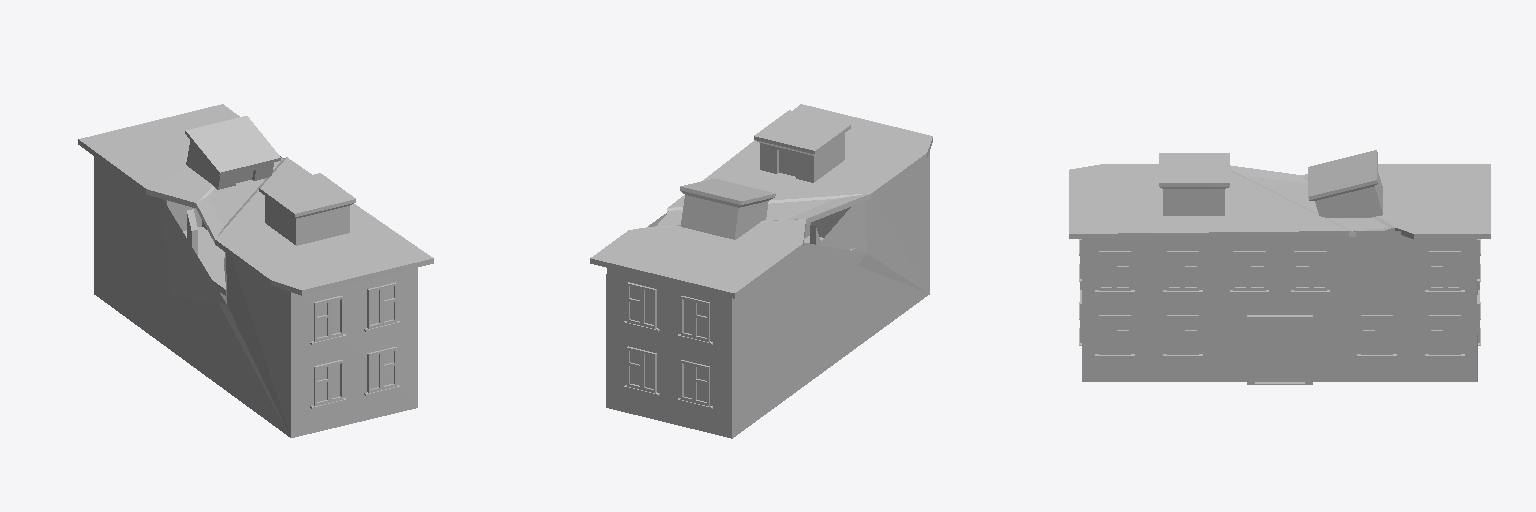
Rendered from build3.obj.
3 views of the same model, side by side, from view 1: azimuth 30°, elevation 25°; view 2: azimuth 150°, elevation 25°; view 3: azimuth 270°, elevation 25° (orthographic).
Visible parts, largest first — view 1: Cube.004, Cube.005_Cube.006, Cube.002, Cube.001_Cube.018, Cube.011_Cube.007, Cube.003_Cube.014, Cube.013_Cube.017; view 2: Cube.004, Cube.005_Cube.006, Cube.002, Cube.001_Cube.018, Cube.003_Cube.014, Cube.013_Cube.017, Cube.011_Cube.007; view 3: Cube.004, Cube.005_Cube.006, Cube.002, Cube.001_Cube.018, Cube.010_Cube.016, Cube.008_Cube.009, Cube.007_Cube.001, Cube.009_Cube.011, Cube.012_Cube.013, Cube.006_Cube.003.
Part boxes in pixels (x1,y1,x2,y2): Cube.004: (94,156,417,437); Cube.005_Cube.006: (78,104,433,295); Cube.002: (259,173,355,245); Cube.001_Cube.018: (185,116,280,189); Cube.011_Cube.007: (167,200,225,295); Cube.003_Cube.014: (310,282,400,344); Cube.013_Cube.017: (310,347,400,408); Cube.004: (606,152,929,438); Cube.005_Cube.006: (590,104,932,298); Cube.002: (754,110,850,182); Cube.001_Cube.018: (680,179,775,239); Cube.003_Cube.014: (623,282,712,344); Cube.013_Cube.017: (623,346,712,408); Cube.011_Cube.007: (804,207,854,250); Cube.004: (1082,176,1477,381); Cube.005_Cube.006: (1069,164,1490,238); Cube.002: (1159,153,1229,215); Cube.001_Cube.018: (1308,150,1382,217); Cube.010_Cube.016: (1247,315,1312,384); Cube.008_Cube.009: (1230,251,1329,292); Cube.007_Cube.001: (1095,251,1464,292); Cube.009_Cube.011: (1095,315,1464,356); Cube.012_Cube.013: (1163,315,1396,356); Cube.006_Cube.003: (1163,251,1202,292).
Bounding box in the file's own units: 5.38 × 6.78 × 13.59.